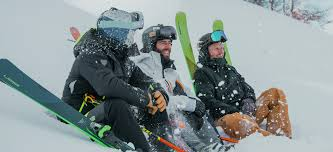skis: (1, 56, 133, 152), (83, 94, 191, 152), (172, 11, 232, 88), (68, 22, 83, 43)
